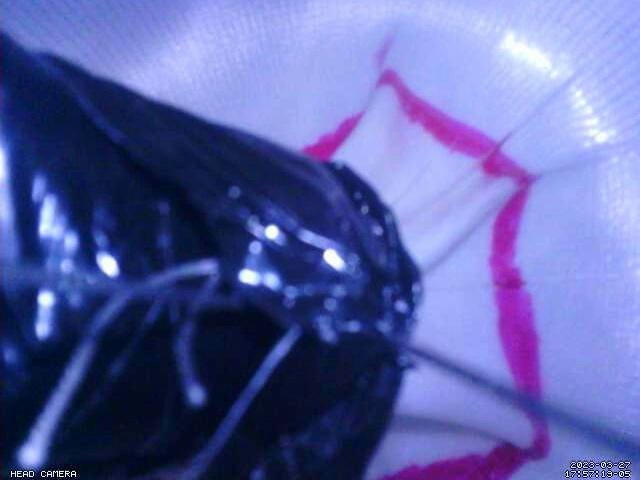red-circle: (300, 67, 552, 478)
